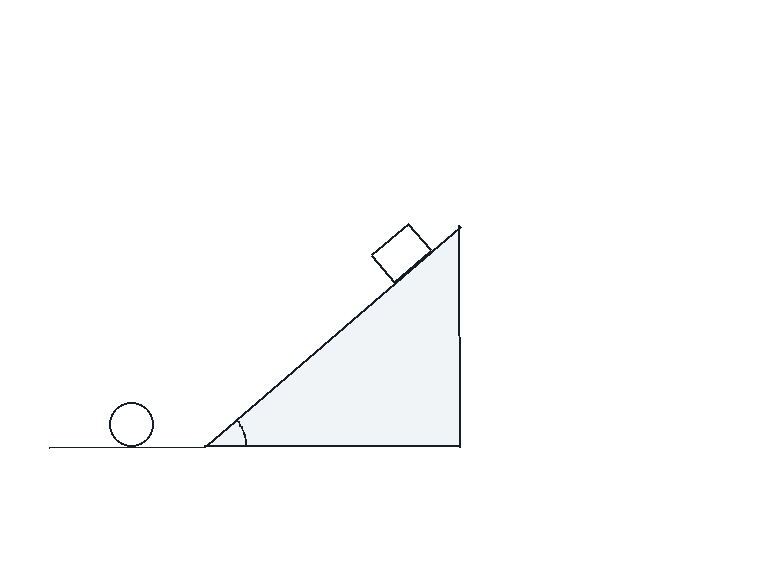ball: (107, 400, 155, 448)
block: (369, 221, 433, 284)
ramp: (204, 224, 462, 448)
